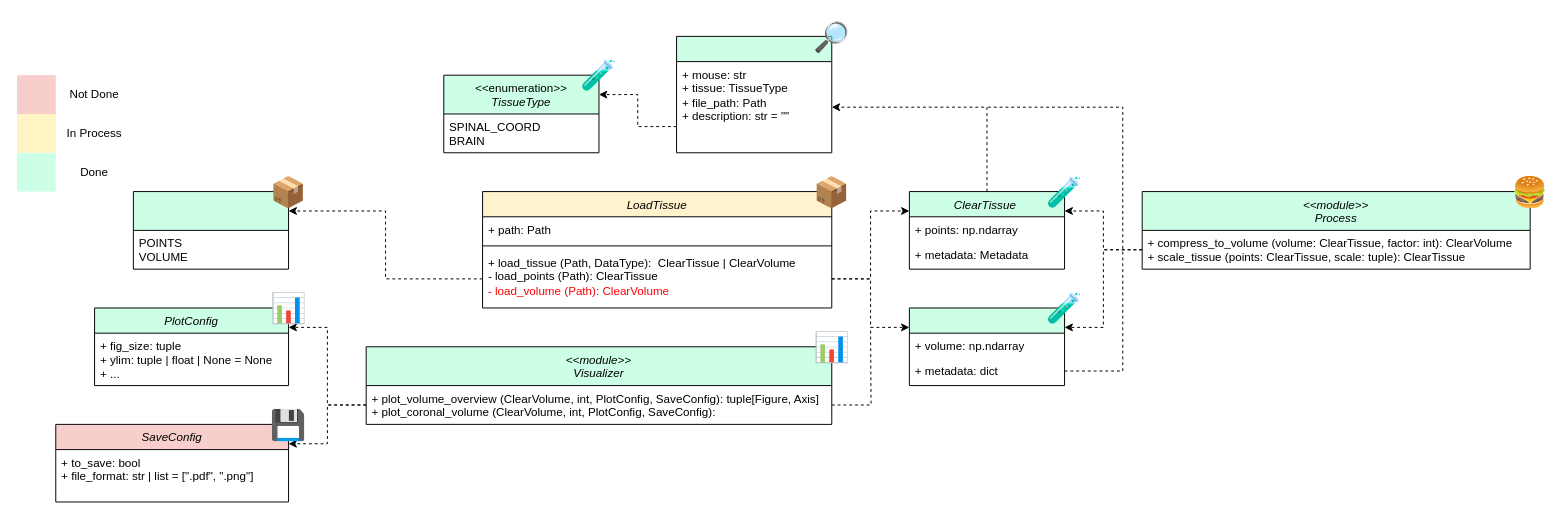
Some shapes in this 1566 by 521 pixel diagram are drawn without their labels. Each missing label, with the box of its shape:
<< enumeration >> DataType: (132, 191, 289, 269)
ClearVolume: (908, 307, 1065, 386)
Metadata: (676, 35, 832, 153)
